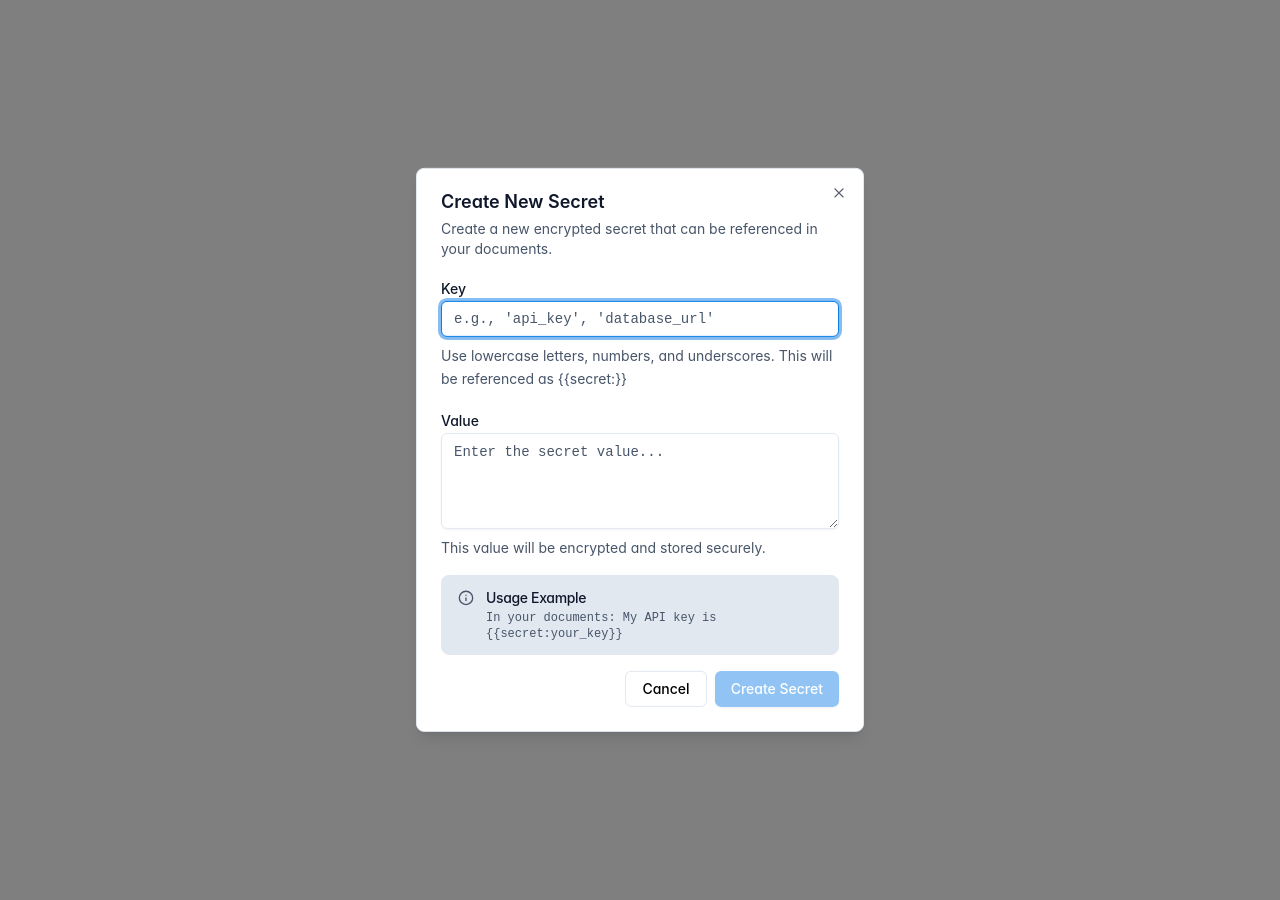
Test: SecretEditModal › shows a busy label while saving
Type "k" into the field labelled "Key" at (640, 319), box [441,301,839,337]
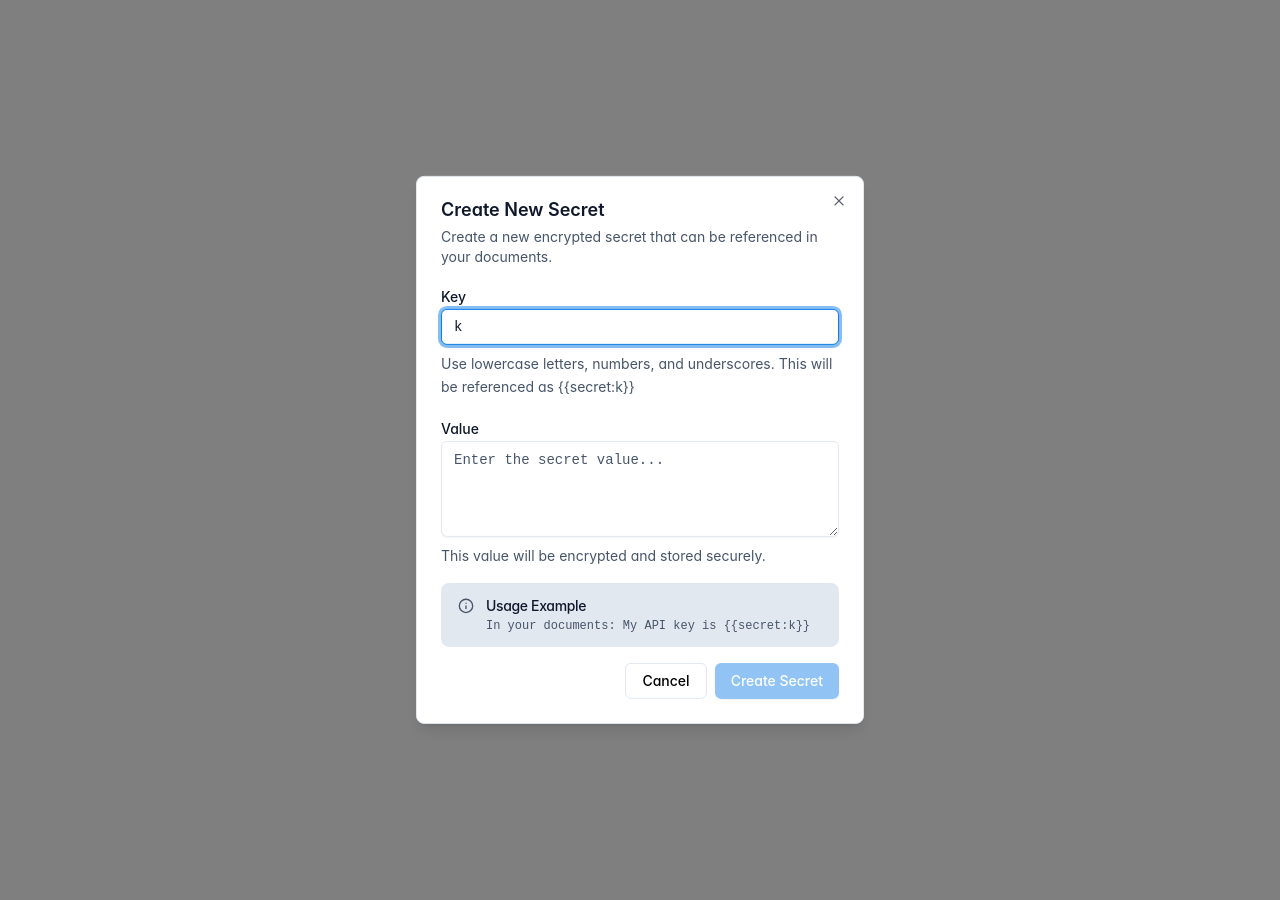
Type "v" into the text box labelled "Value" at (640, 488), box [441,440,839,536]
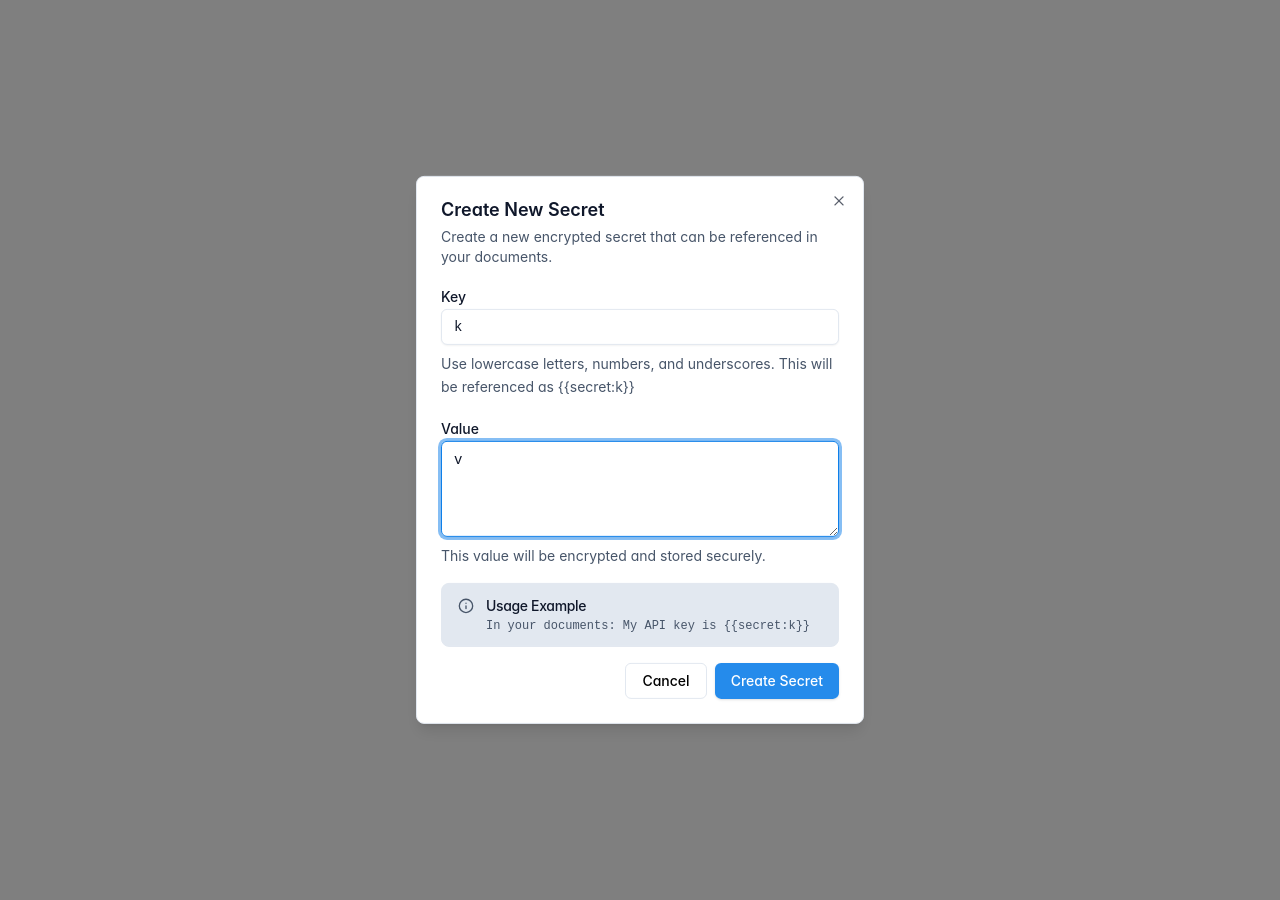
Click the button "Create Secret" at (777, 681), box [715,663,839,699]
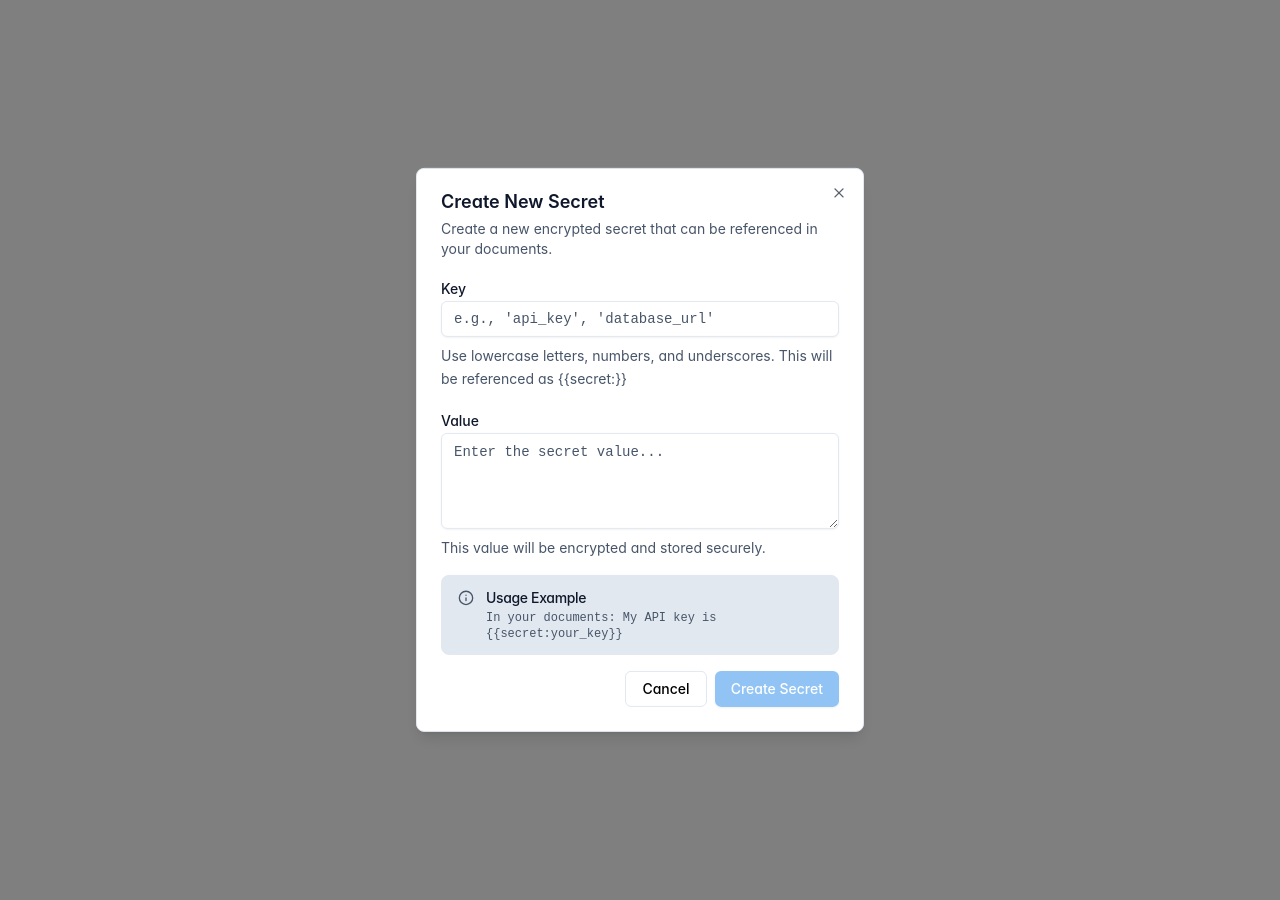
Expected: the button named "Creating..." is disabled, [715,671,839,707]
